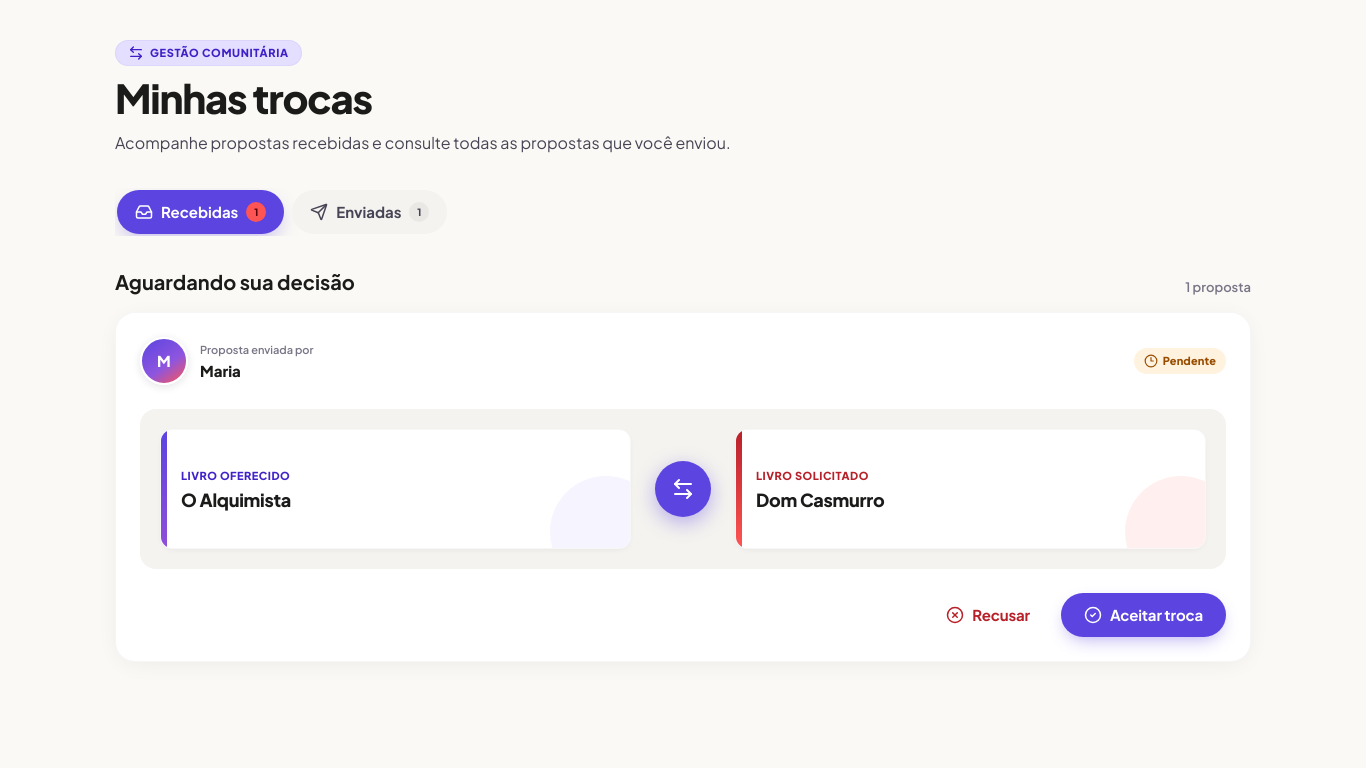
Test: ExchangesPage › usa um GET agregado e oferece ações apenas nas propostas recebidas
Check: the text "Maria" is shown, box [200, 361, 241, 380]
Check: the button "Aceitar troca" is enabled, box [1061, 593, 1226, 637]
Click the tab "Enviadas 1": (370,212) [292, 190, 447, 234]
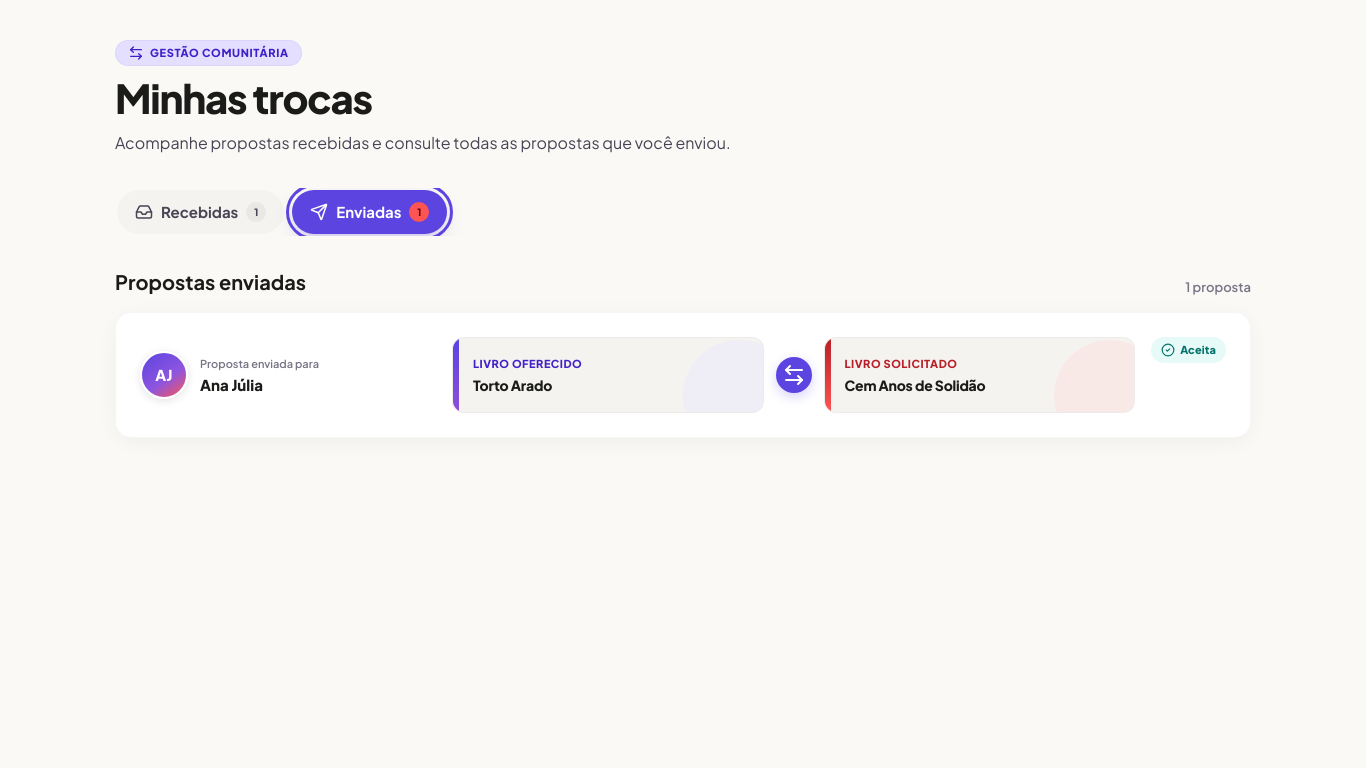
Check: the text "Ana Júlia" is shown, box [200, 375, 263, 394]
Check: the text "Aceita" is shown, box [1180, 342, 1216, 358]
Check: the button "Aceitar troca" is gone
